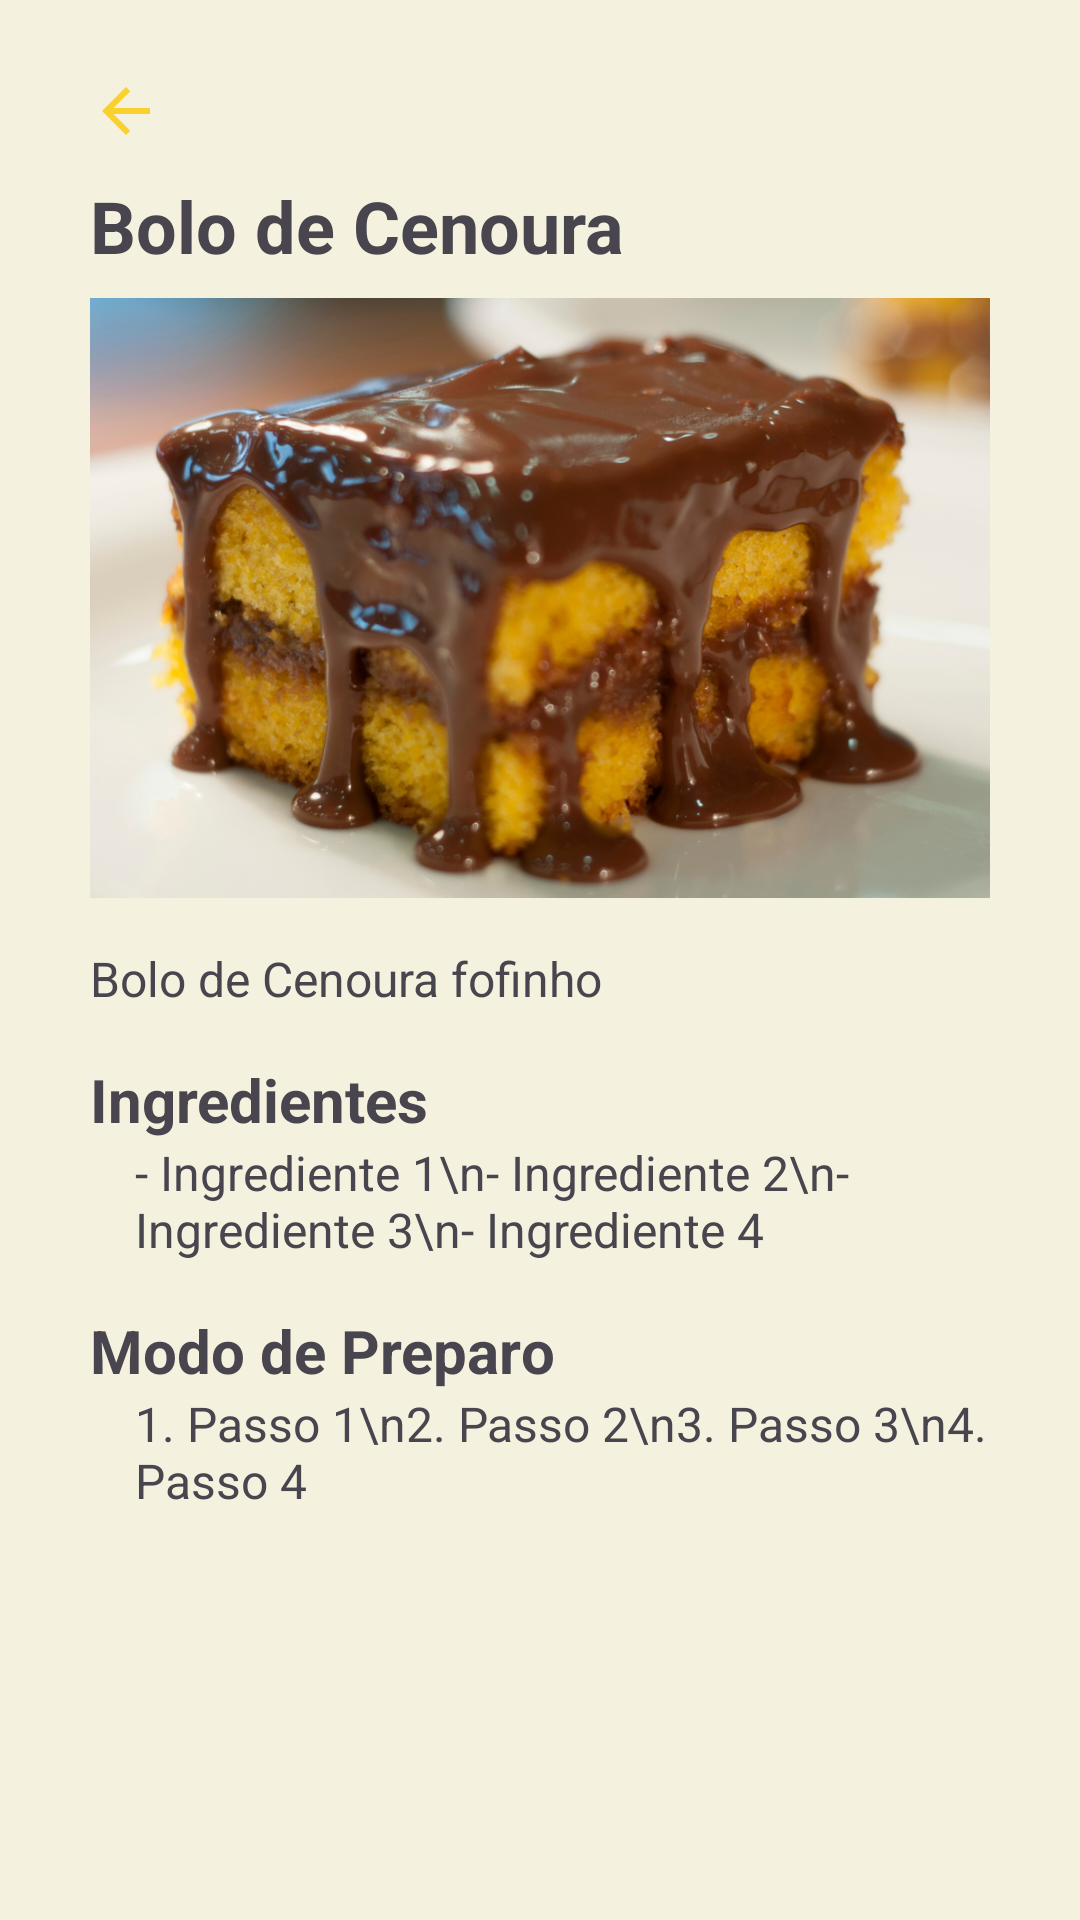

Icons on this 1080x1920 Android screen, each with its box as (x1, y1, x2, y2):
arrow back: (102, 87, 150, 135)
